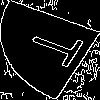T: (25, 25, 96, 73)
